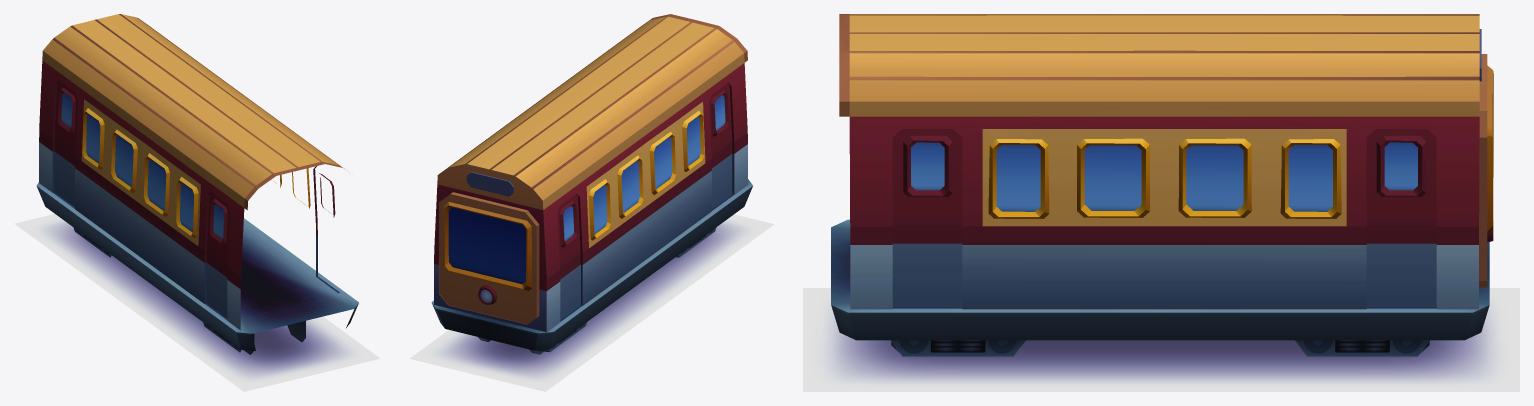
The model's file is 1.100_SanFrancisco_train_sub_front.glb.
The picture shows the model from 3 angles, left to right: view 1: azimuth 30°, elevation 25°; view 2: azimuth 150°, elevation 25°; view 3: azimuth 270°, elevation 25°; orthographic projection. The views are drawn at different scales.
Visible parts, largest first — view 1: 1.100_SanFrancisco_train_sub_front, shadow; view 2: 1.100_SanFrancisco_train_sub_front, shadow; view 3: 1.100_SanFrancisco_train_sub_front, shadow.
Boxes of the visible parts, x1,y1,x2,y2 form: 1.100_SanFrancisco_train_sub_front: [36, 14, 358, 354]; shadow: [14, 214, 379, 391]; 1.100_SanFrancisco_train_sub_front: [431, 14, 752, 354]; shadow: [409, 214, 774, 391]; 1.100_SanFrancisco_train_sub_front: [831, 14, 1493, 356]; shadow: [803, 288, 1519, 391].
Size of the model in its own units: 20.58 by 28.35 by 60.
3 materials, 3 textured.
